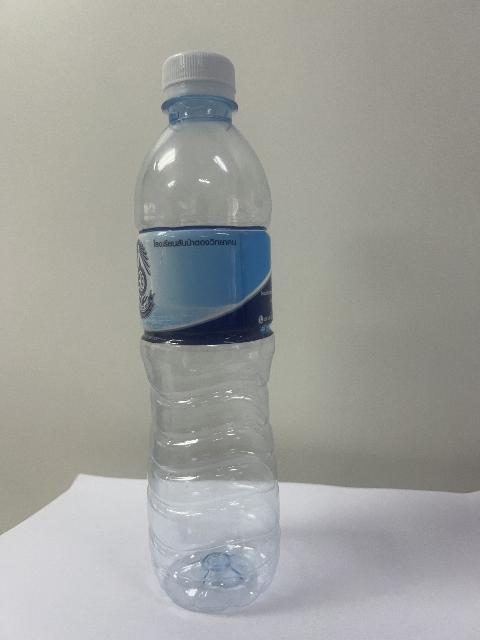bottle: (135, 52, 279, 611)
